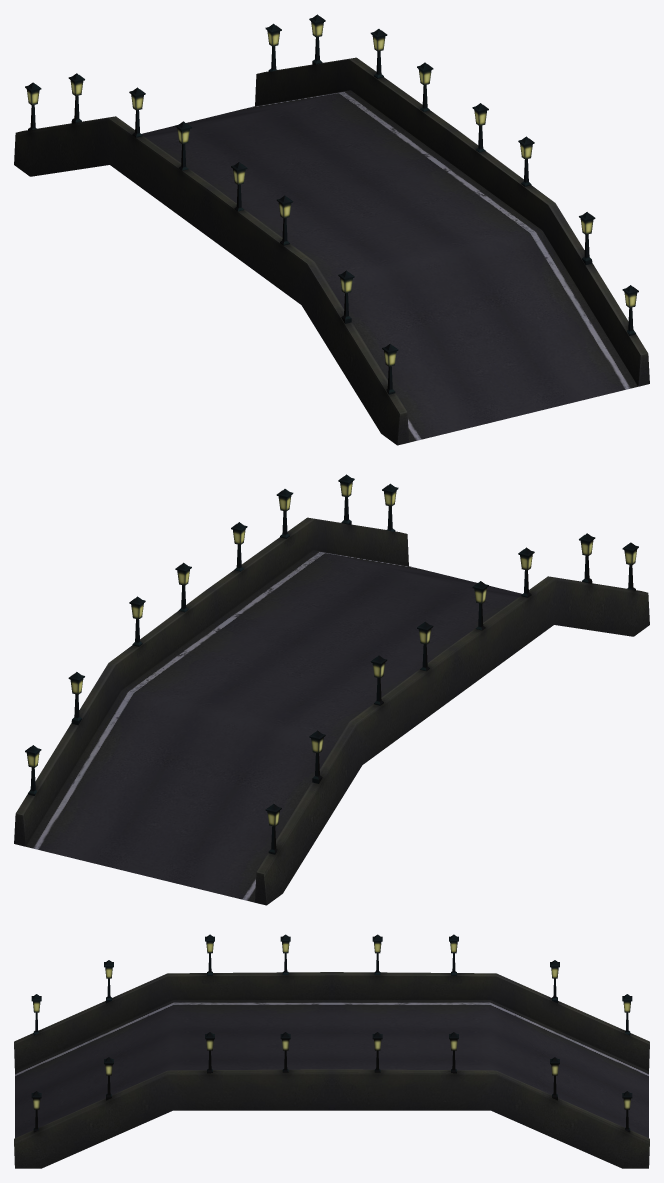
Rendered from modelBridge.fbx.
The picture shows the model from 3 angles, top to bottom: view 1: azimuth 30°, elevation 25°; view 2: azimuth 150°, elevation 25°; view 3: azimuth 270°, elevation 25°; orthographic projection. The views are drawn at different scales.
Parts seen in each view (by area): view 1: modelBridge; view 2: modelBridge; view 3: modelBridge.
Part boxes in pixels (box(x1,y1,x2,y2)): modelBridge: box(14, 14, 649, 445); modelBridge: box(14, 474, 649, 905); modelBridge: box(14, 934, 649, 1168).
Bounding box in the file's own units: 609 × 374 × 1605.
